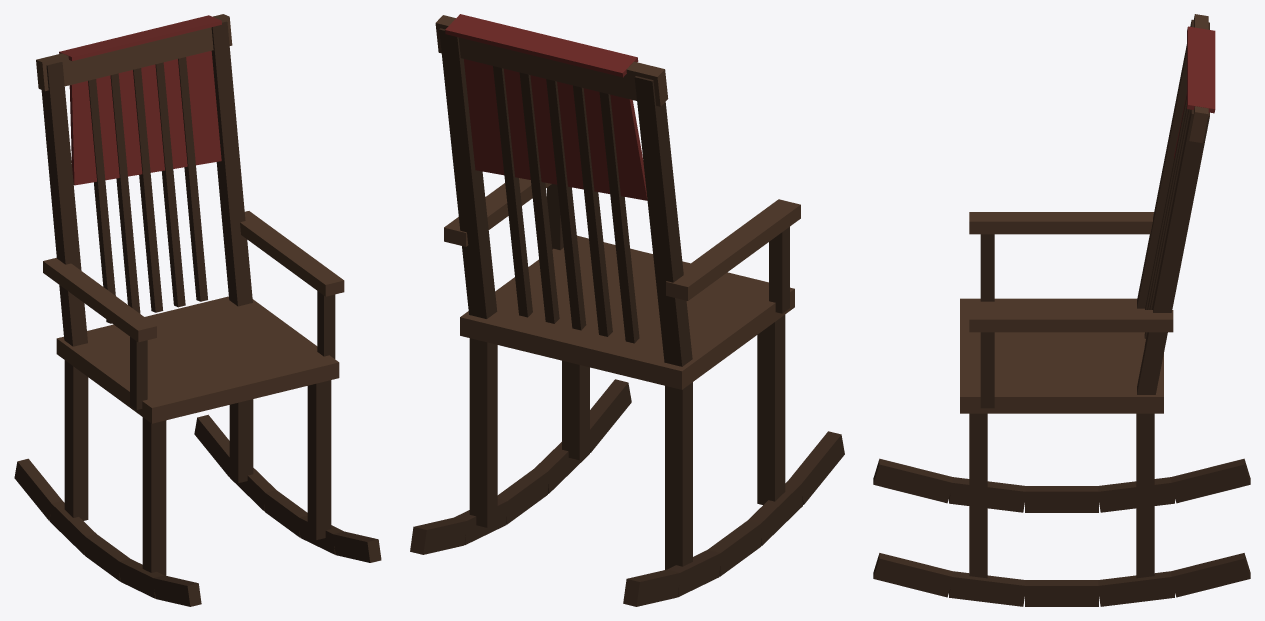
Rendered from rocking_chair.glb.
3 renders of one model, left to right at view 1: azimuth 30°, elevation 25°; view 2: azimuth 150°, elevation 25°; view 3: azimuth 270°, elevation 25°, orthographic. The views are drawn at different scales.
Parts seen in each view (by area): view 1: rocking_chair; view 2: rocking_chair; view 3: rocking_chair.
Part boxes in pixels (x1,y1,x2,y2): rocking_chair: (14, 14, 381, 606); rocking_chair: (410, 14, 844, 606); rocking_chair: (873, 14, 1250, 606).
Size of the model in its own units: 0.55 by 1.18 by 0.8133.
